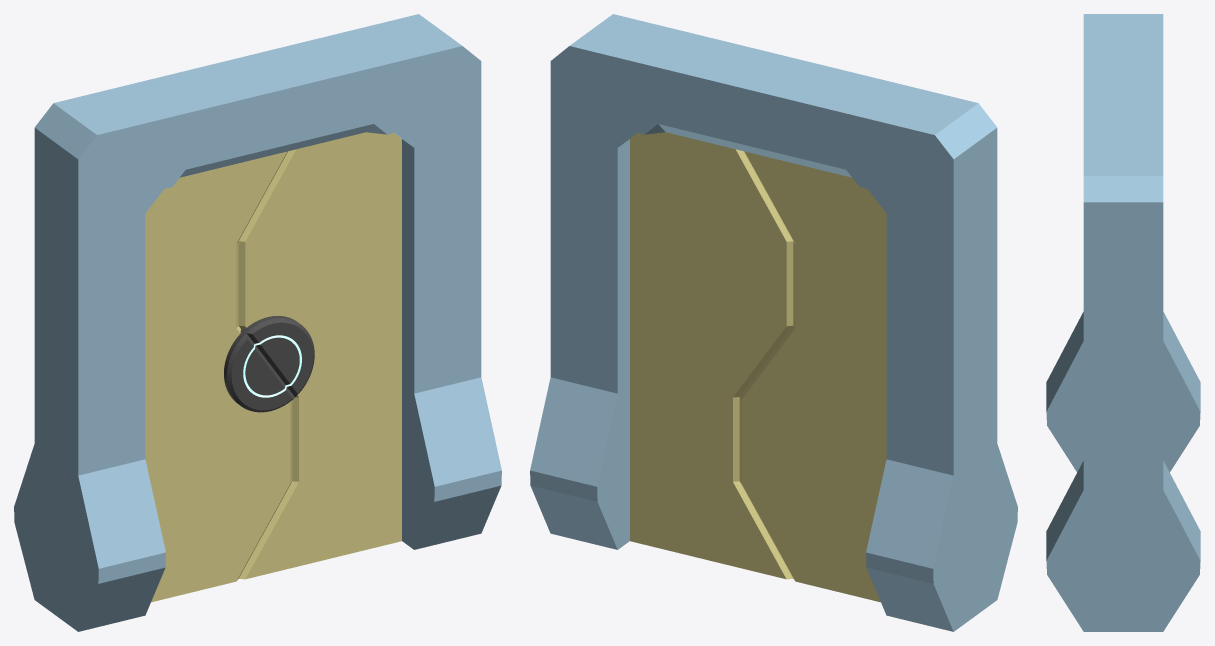
The model's file is scifi door_export.fbx.
The picture shows the model from 3 angles, left to right: view 1: azimuth 30°, elevation 25°; view 2: azimuth 150°, elevation 25°; view 3: azimuth 270°, elevation 25°; orthographic projection. The views are drawn at different scales.
Parts seen in each view (by area): view 1: Cube, Cube.001, Cube.002, Cylinder.003, Cylinder.002; view 2: Cube, Cube.001, Cube.002; view 3: Cube.
Part boxes in pixels (x1,y1,x2,y2): Cube: (14,14,501,631); Cube.001: (238,132,401,579); Cube.002: (145,151,292,602); Cylinder.003: (224,329,294,412); Cylinder.002: (241,316,314,397); Cube: (530,14,1017,631); Cube.001: (630,132,793,579); Cube.002: (739,151,886,602); Cube: (1046,14,1200,631).
Size of the model in its own units: 300 by 350 by 109.
